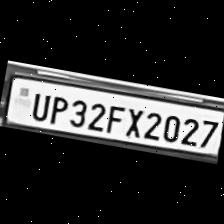0: (157, 110, 182, 142)
2: (83, 97, 107, 133), (138, 106, 162, 142), (176, 113, 200, 146)
3: (64, 94, 90, 130)
7: (194, 116, 218, 149)
F: (101, 100, 125, 136)
P: (45, 90, 69, 125)
U: (25, 86, 50, 122)
X: (121, 103, 145, 139)
